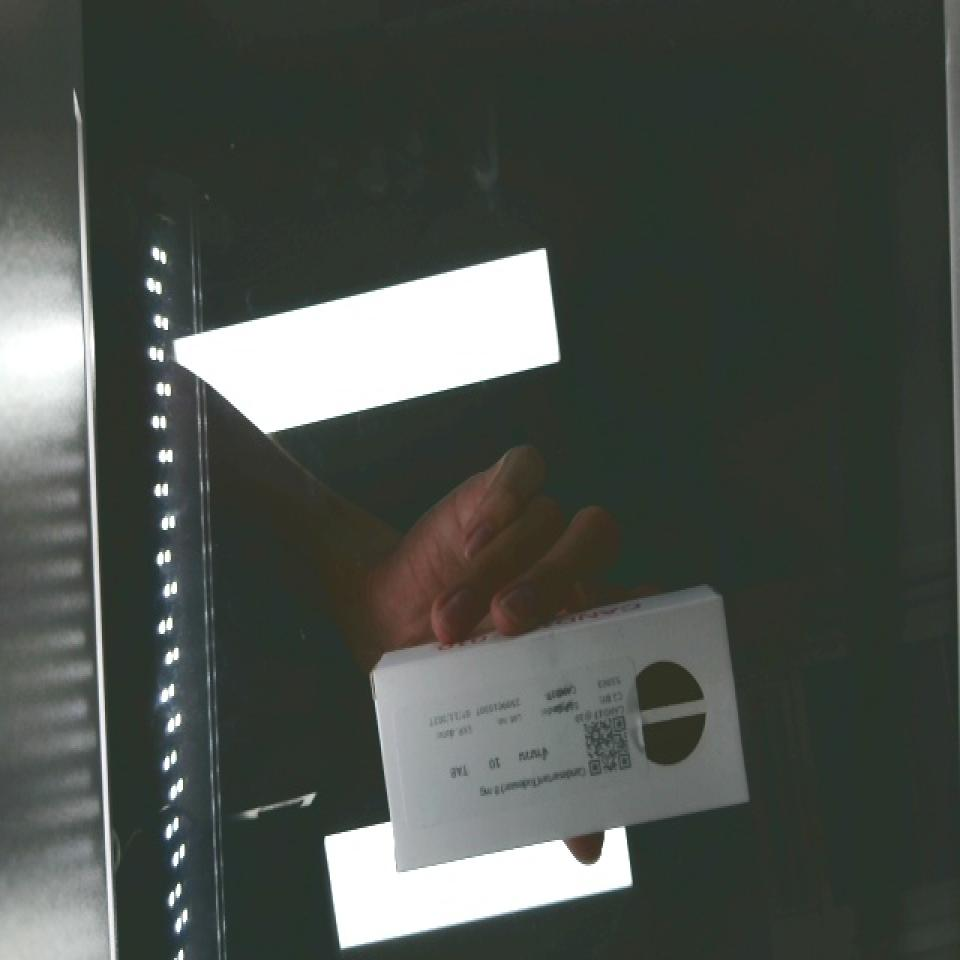medicine_box: (355, 596, 767, 874)
qr_code: (569, 694, 652, 793)
